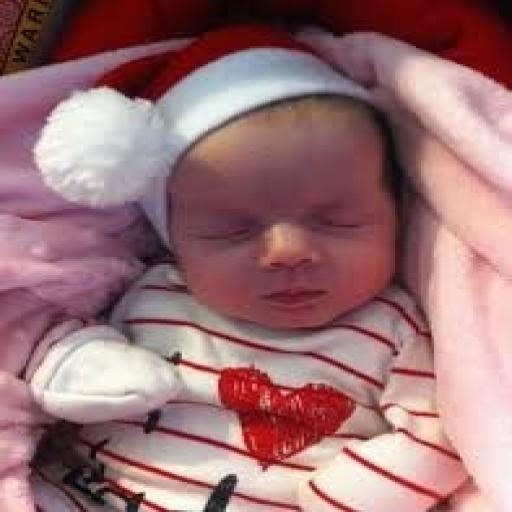sleeping: (0, 22, 509, 510)
